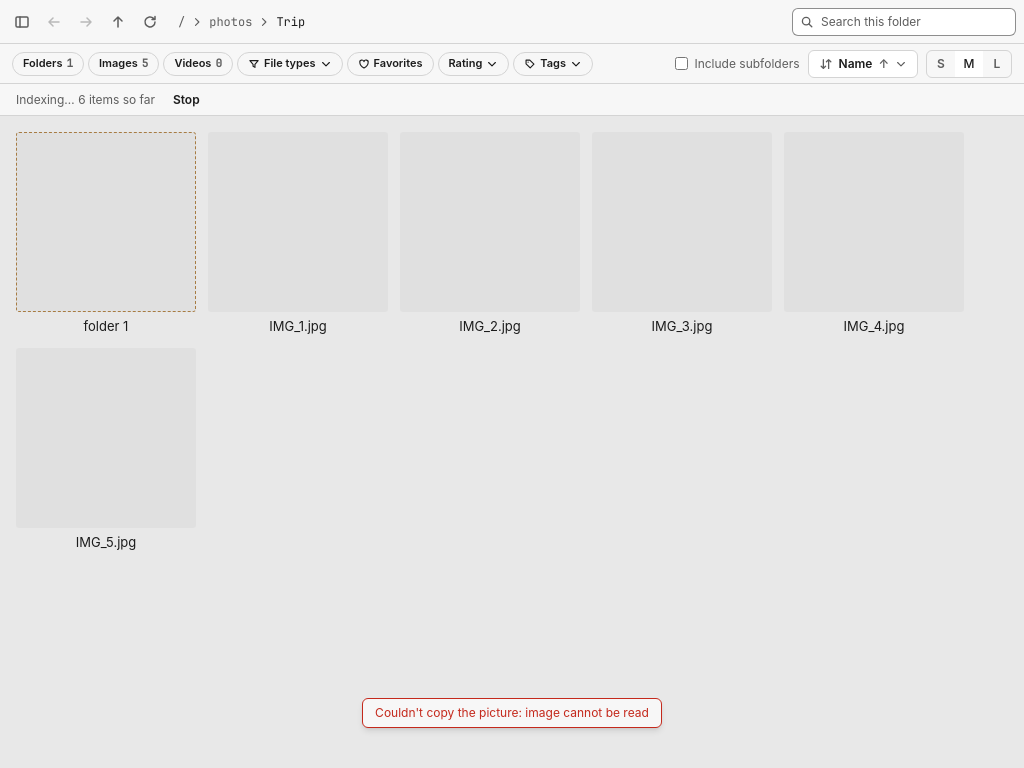
Test: clipboard and delete › Ctrl+C on several items copies files only, and says so
Expected: the text "IMG_2.jpg" is shown, x1=459 y1=318 x2=521 y2=334
Click the cell "IMG_2.jpg" at (490, 240), box x1=400 y1=132 x2=580 y2=348
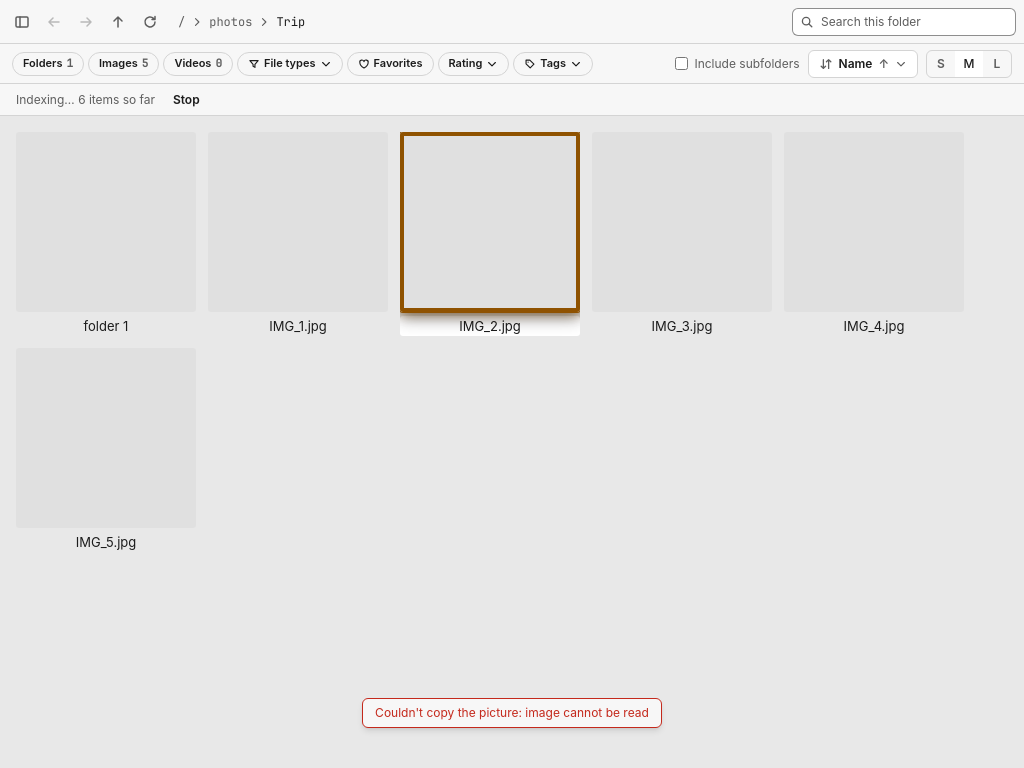
Type keys "{Shift>}"
Click the cell "IMG_4.jpg" at (874, 240), box x1=784 y1=132 x2=964 y2=348
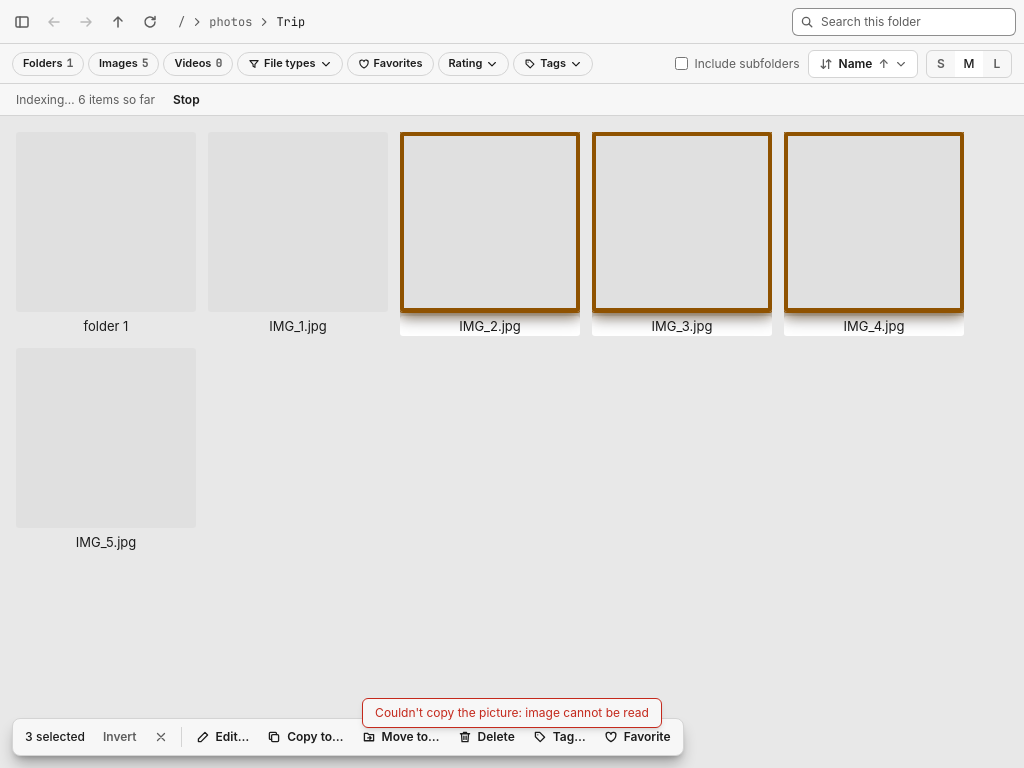
Type keys "{/Shift}{Control>}c{/Control}"
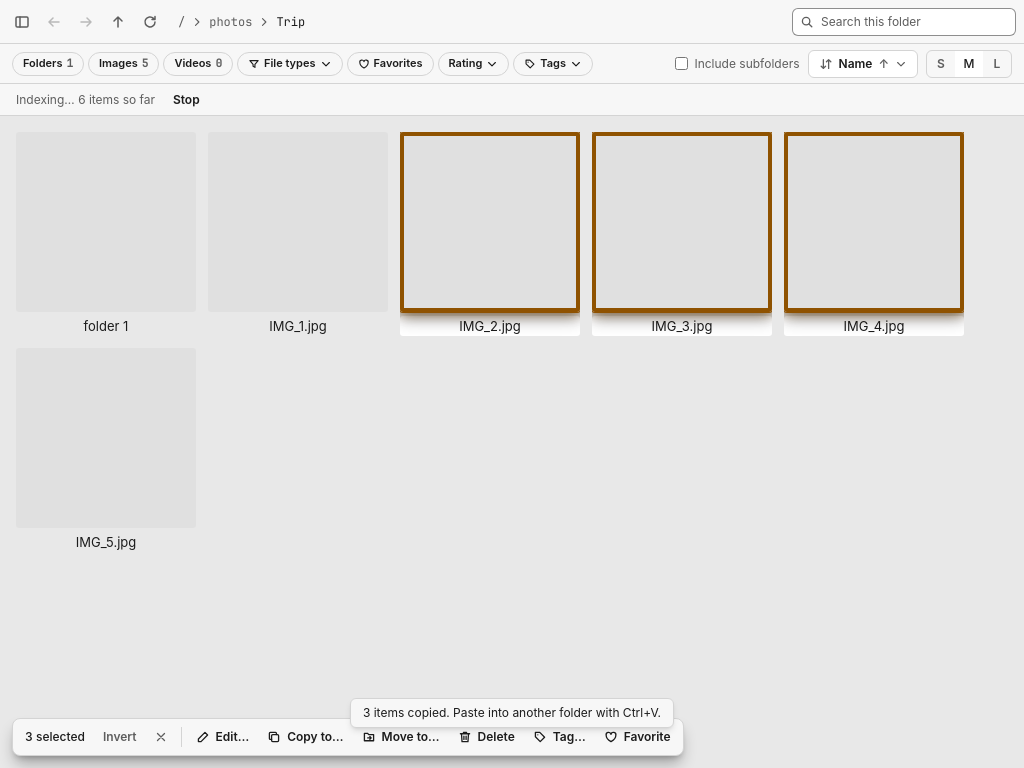
Expected: the text with test id "notice" shows "3 items copied.", x1=363 y1=705 x2=661 y2=720
